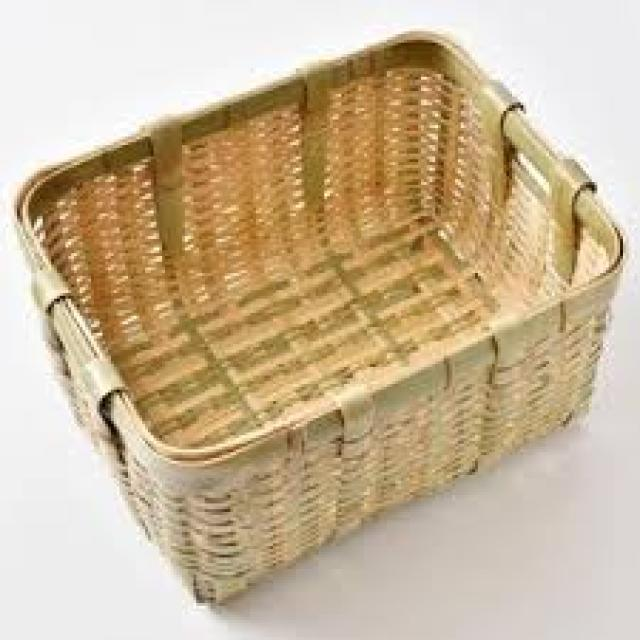basket: (18, 33, 623, 614)
